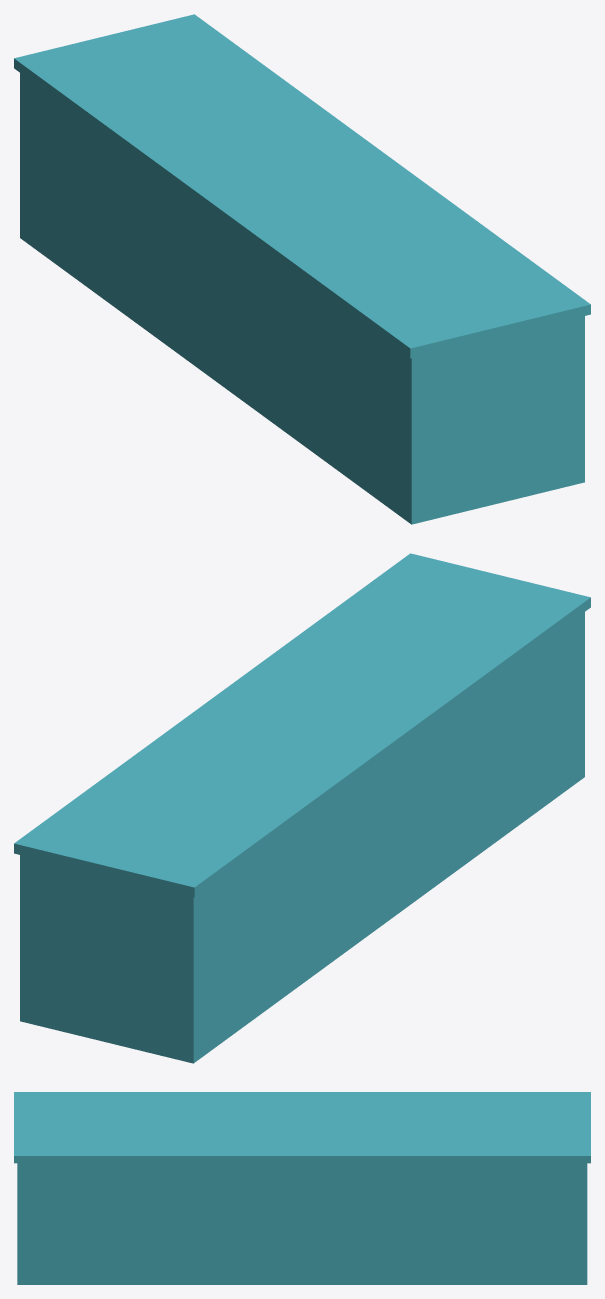
The model's file is stół_dóży.fbx.
The picture shows the model from 3 angles, top to bottom: view 1: azimuth 30°, elevation 25°; view 2: azimuth 150°, elevation 25°; view 3: azimuth 270°, elevation 25°; orthographic projection. The views are drawn at different scales.
Visible parts, largest first — view 1: Stół; view 2: Stół; view 3: Stół.
Boxes of the visible parts, x1,y1,x2,y2 form: Stół: [14, 14, 590, 524]; Stół: [14, 553, 590, 1063]; Stół: [14, 1092, 590, 1284].
Bounding box in the file's own units: 40.04 × 37.88 × 152.
